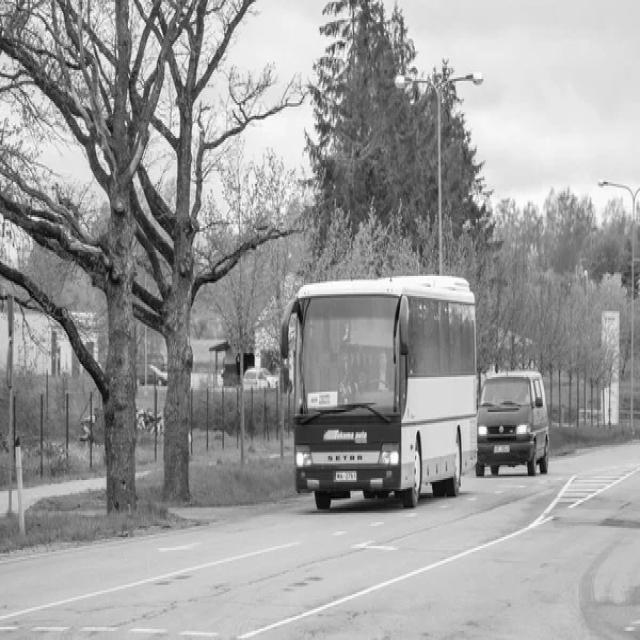Bus: (280, 276, 478, 510)
Car: (477, 372, 550, 476)
Tree: (0, 0, 182, 510), (133, 0, 303, 502)
